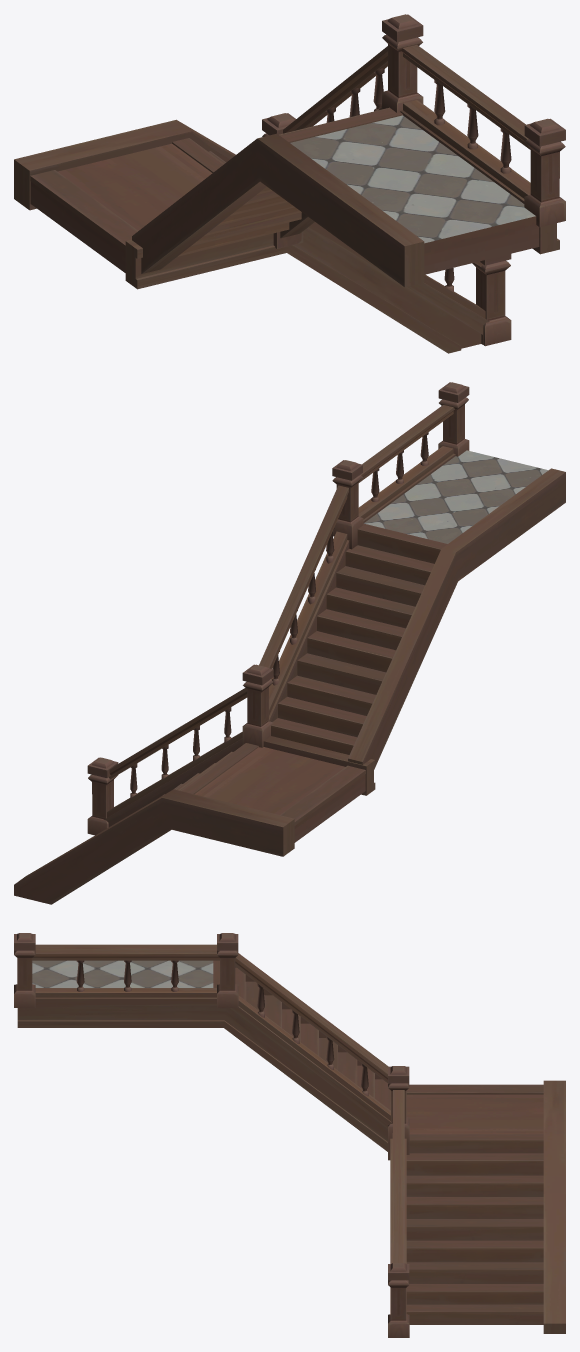
File: Homeworld_Interior_Md_Room_K_Stair_01_Vo.fbx
The picture shows the model from 3 angles, top to bottom: view 1: azimuth 30°, elevation 25°; view 2: azimuth 150°, elevation 25°; view 3: azimuth 270°, elevation 25°; orthographic projection. The views are drawn at different scales.
Visible parts, largest first — view 1: Homeworld_Interior_Md_Room_K_Stair_01_Vo; view 2: Homeworld_Interior_Md_Room_K_Stair_01_Vo; view 3: Homeworld_Interior_Md_Room_K_Stair_01_Vo.
Part boxes in pixels (x1,y1,x2,y2): Homeworld_Interior_Md_Room_K_Stair_01_Vo: [14, 14, 565, 353]; Homeworld_Interior_Md_Room_K_Stair_01_Vo: [14, 382, 565, 904]; Homeworld_Interior_Md_Room_K_Stair_01_Vo: [14, 933, 565, 1337].
Size of the model in its own units: 5.57 by 6.54 by 10.05.
